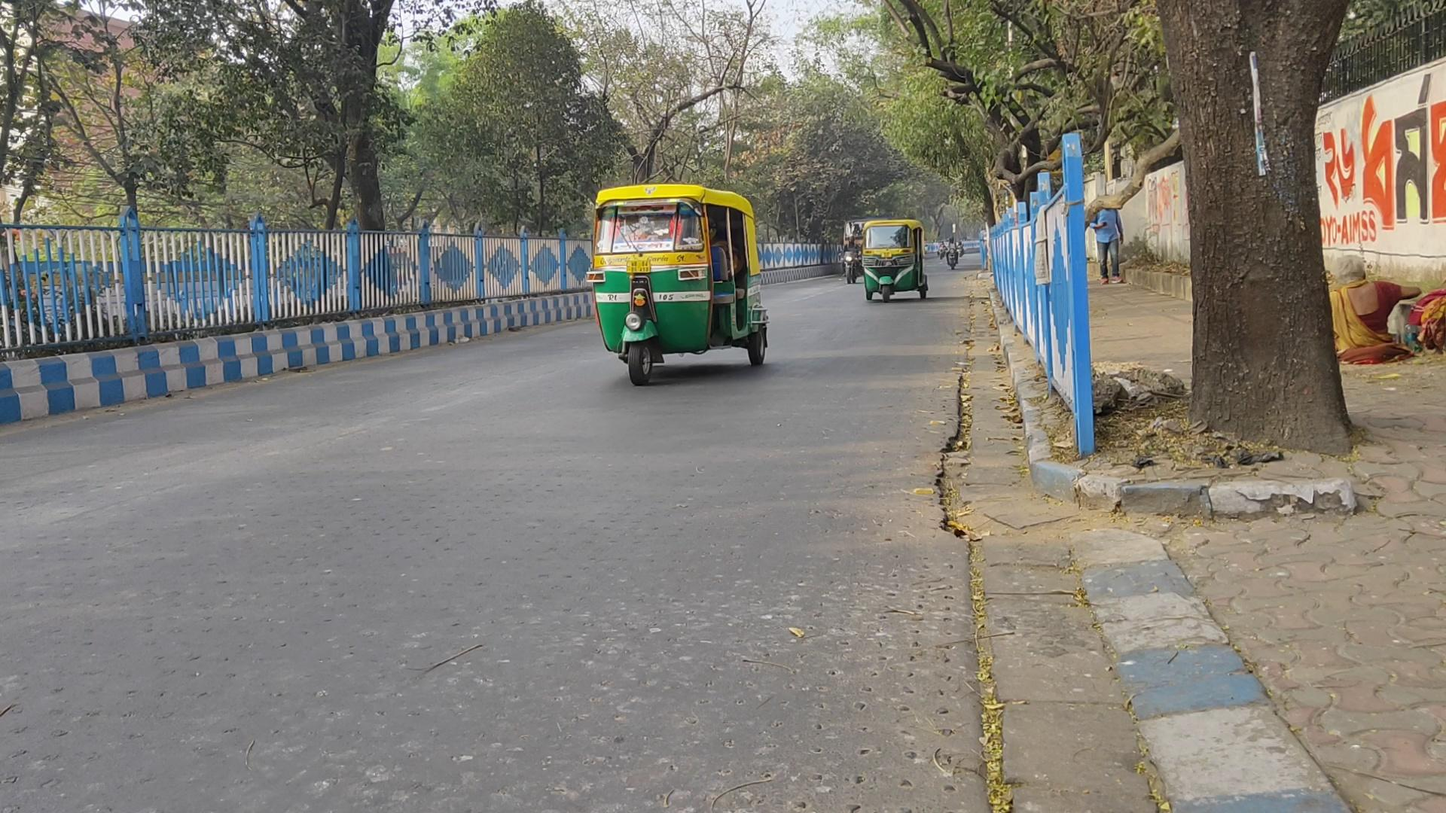Auto: (590, 183, 769, 385), (862, 219, 929, 304)
bike: (842, 233, 862, 285), (944, 233, 959, 271)
